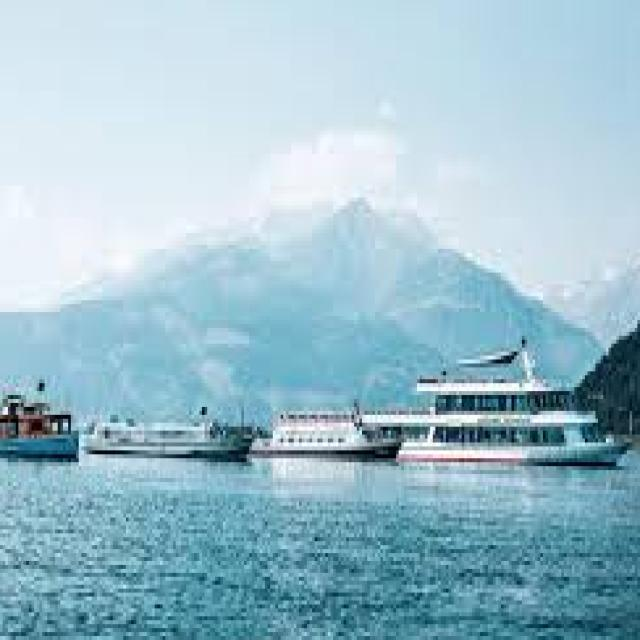passenger ship: (396, 352, 610, 465), (92, 384, 254, 494), (0, 352, 79, 466), (270, 388, 389, 458)
